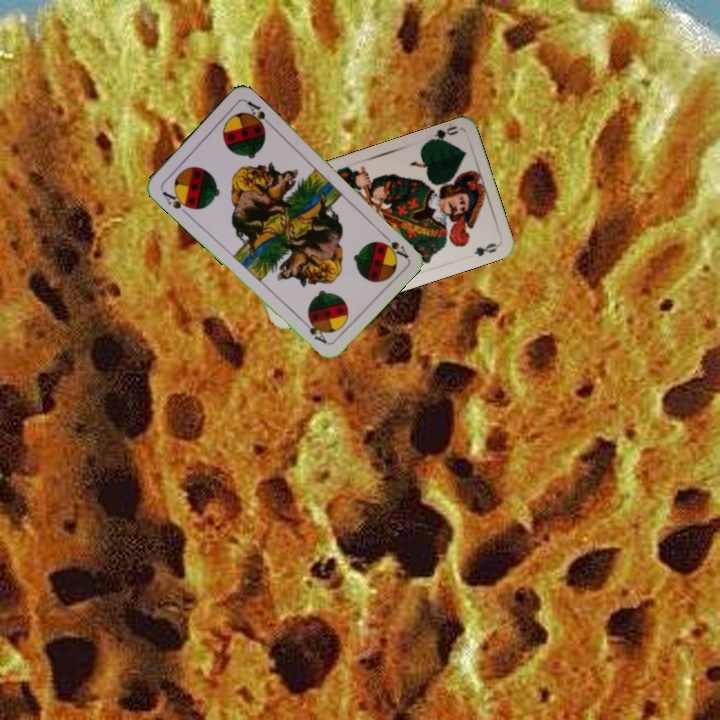GO: (422, 122, 460, 146)
SA: (158, 187, 195, 218), (377, 229, 410, 261)
